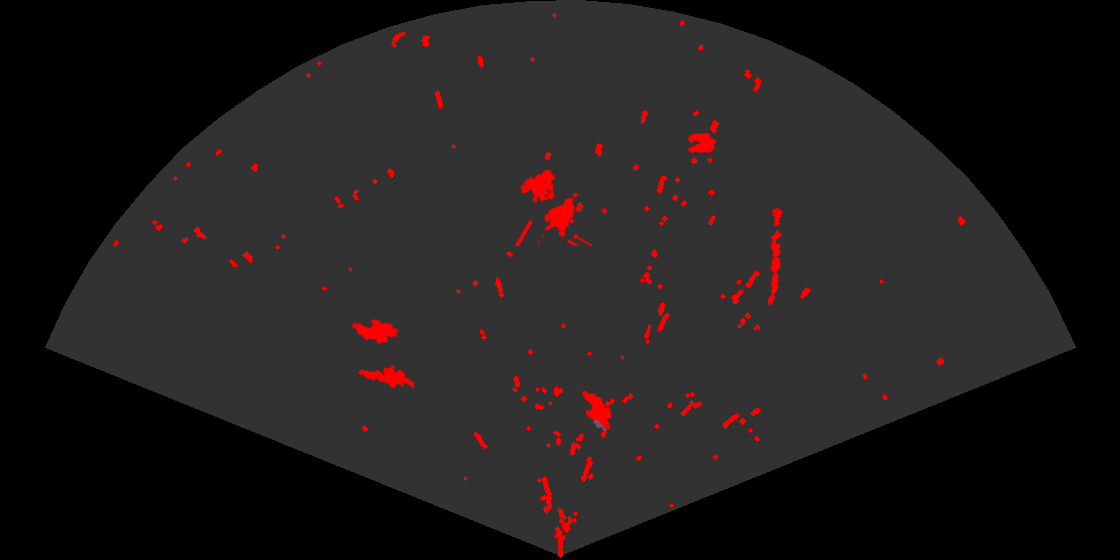AUV: (580, 389, 614, 433), (350, 317, 400, 346)
ball: (686, 131, 717, 166)
cage: (513, 168, 595, 246)
chain: (766, 207, 785, 307)
frogman: (356, 363, 414, 390)
